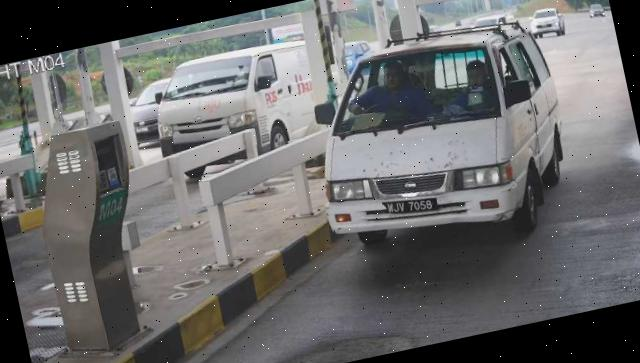License_Plate: (382, 190, 442, 224)
van: (295, 9, 585, 272)
